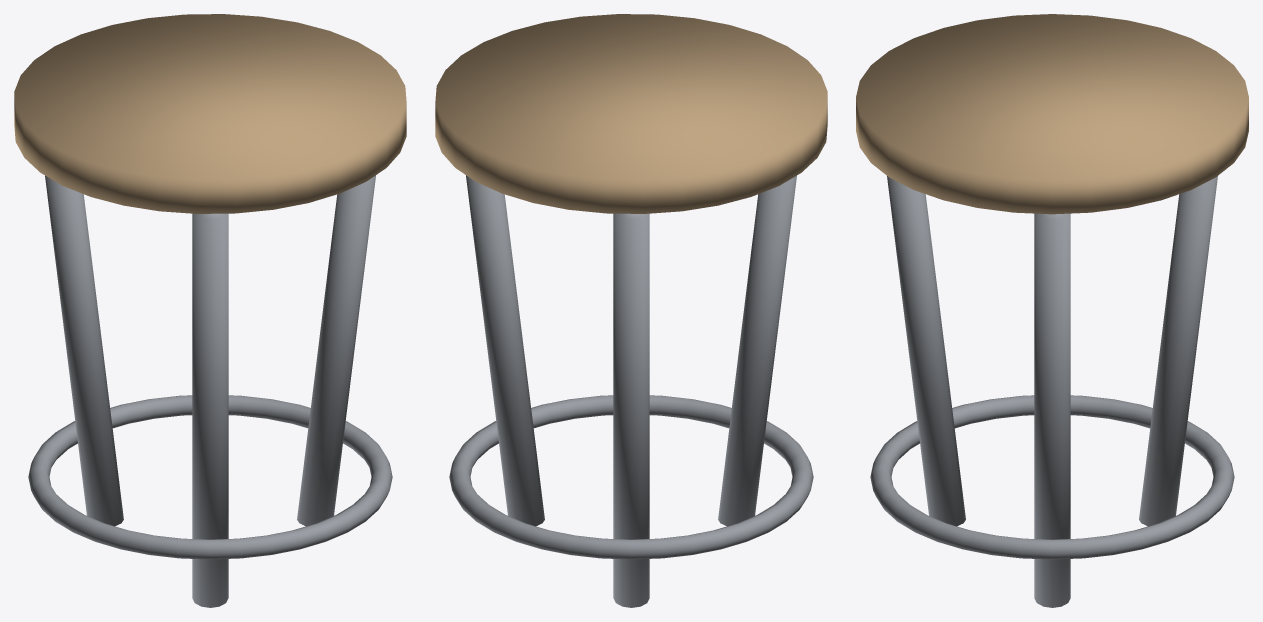
File: stool.glb
3 renders of one model, left to right at view 1: azimuth 30°, elevation 25°; view 2: azimuth 150°, elevation 25°; view 3: azimuth 270°, elevation 25°, orthographic.
Parts seen in each view (by area): view 1: Seat, FootRing, Leg2, Leg1, Leg0; view 2: Seat, FootRing, Leg1, Leg2, Leg0; view 3: Seat, FootRing, Leg0, Leg1, Leg2.
Boxes of the visible parts, bbox=[...] form: Seat: bbox=[14, 14, 406, 213]; FootRing: bbox=[28, 395, 392, 559]; Leg2: bbox=[192, 213, 228, 607]; Leg1: bbox=[45, 175, 123, 526]; Leg0: bbox=[297, 175, 375, 526]; Seat: bbox=[435, 14, 827, 213]; FootRing: bbox=[449, 395, 813, 559]; Leg1: bbox=[613, 213, 649, 607]; Leg2: bbox=[718, 175, 796, 526]; Leg0: bbox=[466, 175, 544, 526]; Seat: bbox=[856, 14, 1248, 214]; FootRing: bbox=[870, 395, 1234, 559]; Leg0: bbox=[1034, 213, 1070, 607]; Leg1: bbox=[1139, 176, 1217, 526]; Leg2: bbox=[887, 176, 965, 526].
Size of the model in its own units: 0.5241 by 0.6605 by 0.52.
